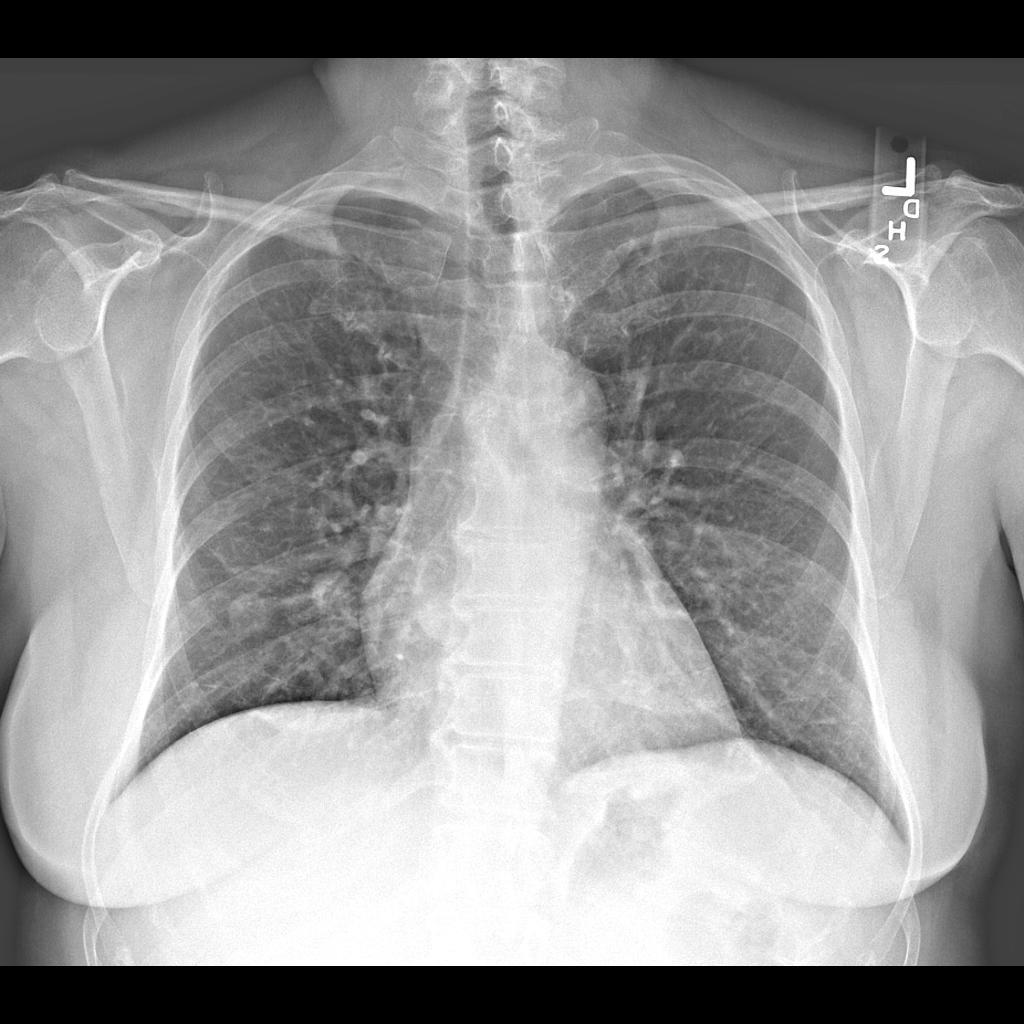Nodule: (302, 564, 357, 623), (227, 592, 266, 643)
